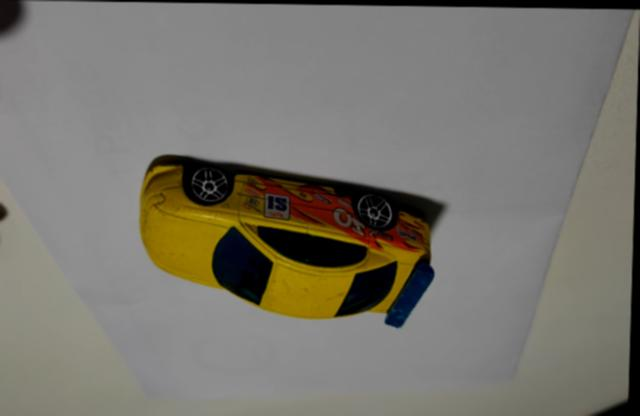02_OZSOME: (140, 154, 435, 326)
